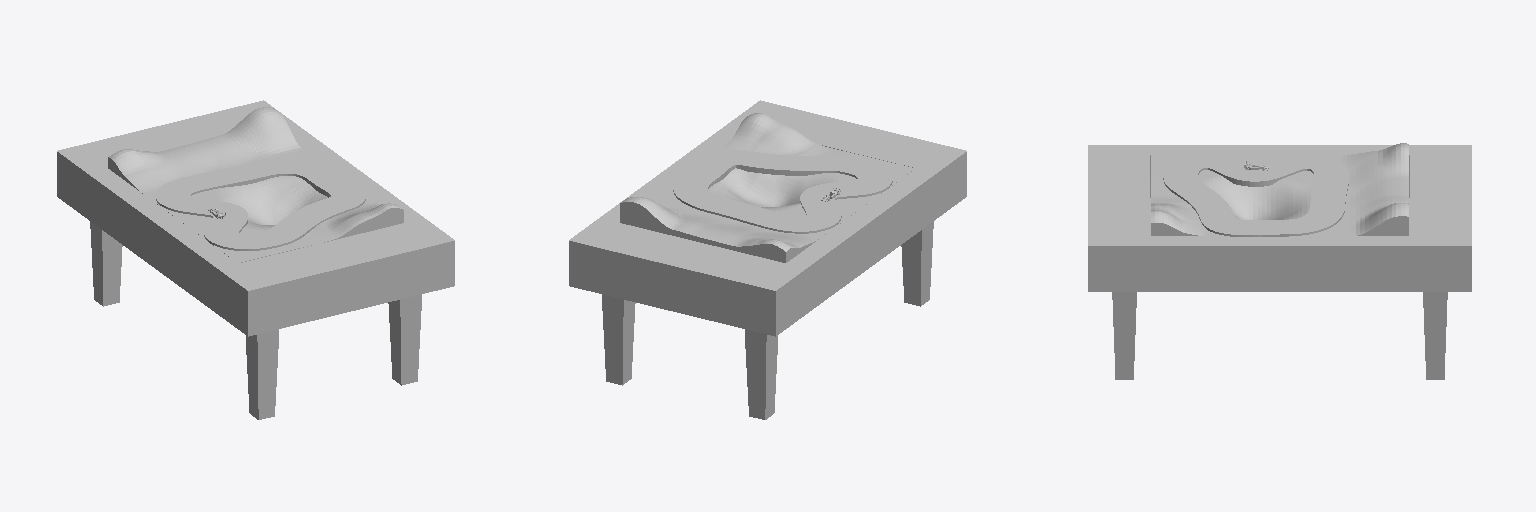
File: NewestTisch76.obj
The picture shows the model from 3 angles: view 1: azimuth 30°, elevation 25°; view 2: azimuth 150°, elevation 25°; view 3: azimuth 270°, elevation 25°; orthographic projection.
Parts seen in each view (by area): view 1: Tischplatte_wood_table_001, Landschaft_aerial_grass_rock, off, Bein1_wood_table_001, Bein4_wood_table_001.003, Bein3_wood_table_001.002; view 2: Tischplatte_wood_table_001, Landschaft_aerial_grass_rock, off, Bein2_wood_table_001.001, Bein3_wood_table_001.002, Bein4_wood_table_001.003; view 3: Tischplatte_wood_table_001, Landschaft_aerial_grass_rock, off, Bein1_wood_table_001, Bein2_wood_table_001.001.
Part boxes in pixels (left/top/right/bottom): Tischplatte_wood_table_001: left=57, top=100, right=454, bottom=336; Landschaft_aerial_grass_rock: left=108, top=107, right=403, bottom=262; off: left=156, top=159, right=365, bottom=250; Bein1_wood_table_001: left=388, top=294, right=421, bottom=385; Bein4_wood_table_001.003: left=246, top=329, right=278, bottom=419; Bein3_wood_table_001.002: left=90, top=221, right=122, bottom=306; Tischplatte_wood_table_001: left=569, top=100, right=966, bottom=336; Landschaft_aerial_grass_rock: left=620, top=113, right=915, bottom=262; off: left=673, top=150, right=892, bottom=233; Bein2_wood_table_001.001: left=602, top=294, right=635, bottom=385; Bein3_wood_table_001.002: left=745, top=329, right=777, bottom=419; Bein4_wood_table_001.003: left=901, top=221, right=933, bottom=306; Tischplatte_wood_table_001: left=1088, top=145, right=1471, bottom=291; Landschaft_aerial_grass_rock: left=1151, top=143, right=1408, bottom=235; off: left=1163, top=153, right=1348, bottom=236; Bein1_wood_table_001: left=1112, top=292, right=1136, bottom=379; Bein2_wood_table_001.001: left=1423, top=292, right=1447, bottom=379.
Size of the model in its own units: 5 by 3.91 by 8.